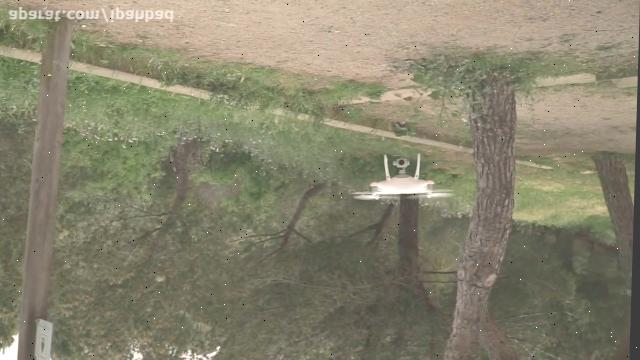drone: (350, 153, 457, 201)
